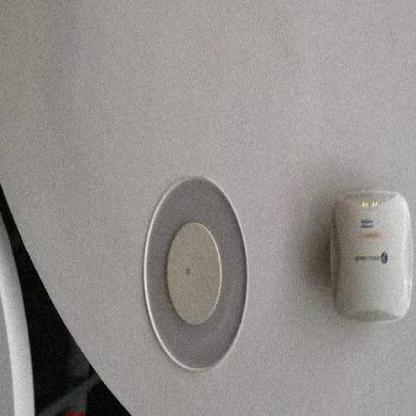light_off: (132, 129, 254, 395)
